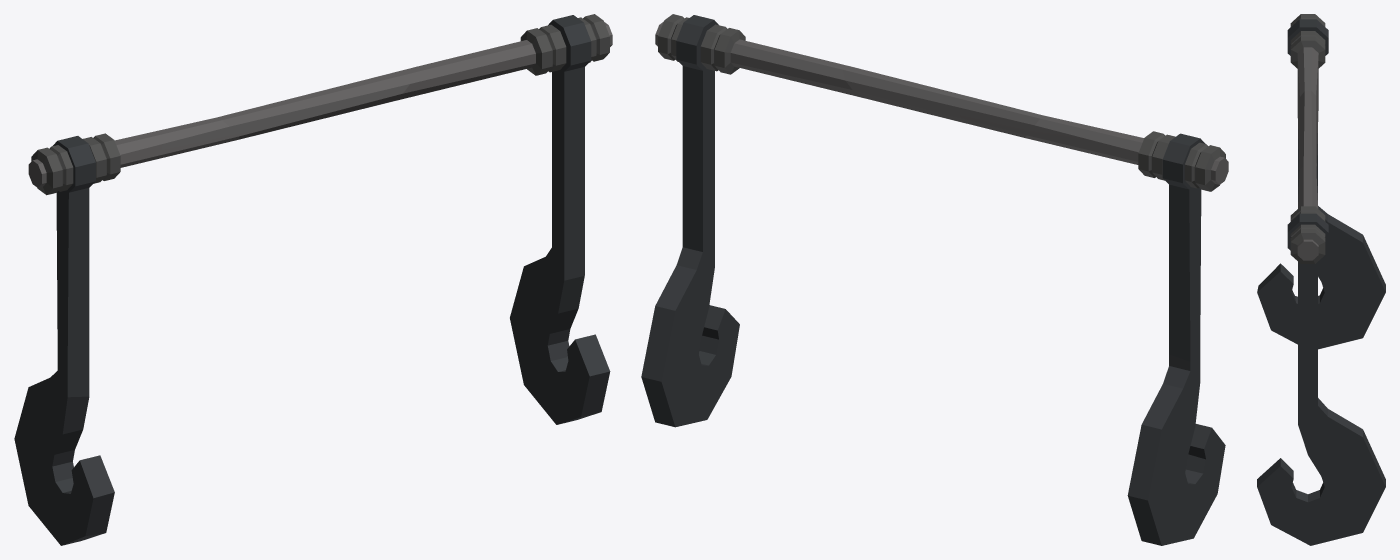
Rendered from forge_smelting_pot.gltf.
3 renders of one model, left to right at view 1: azimuth 30°, elevation 25°; view 2: azimuth 150°, elevation 25°; view 3: azimuth 270°, elevation 25°, orthographic. The views are drawn at different scales.
Visible parts, largest first — view 1: forge_smelting_pot; view 2: forge_smelting_pot; view 3: forge_smelting_pot.
Boxes of the visible parts, x1,y1,x2,y2 form: forge_smelting_pot: [14, 14, 612, 545]; forge_smelting_pot: [641, 14, 1228, 545]; forge_smelting_pot: [1257, 14, 1385, 545].
Bounding box in the file's own units: 2.34 × 1.57 × 0.5666.
1 material, 1 textured.
